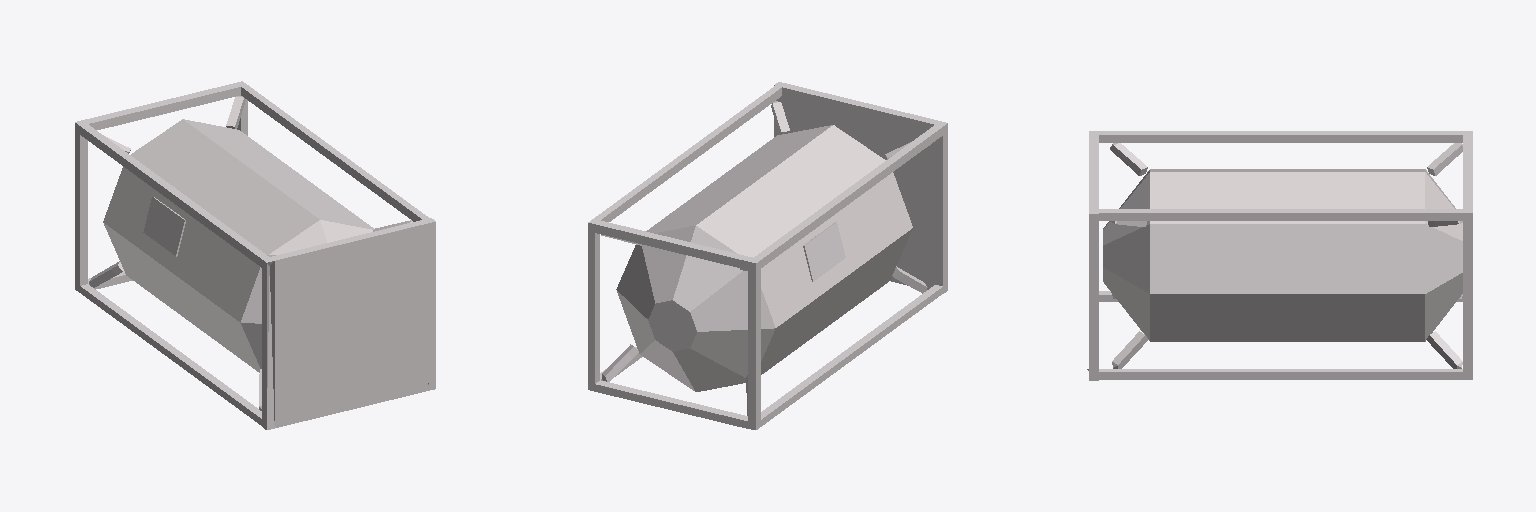
3 renders of one model, left to right at view 1: azimuth 30°, elevation 25°; view 2: azimuth 150°, elevation 25°; view 3: azimuth 270°, elevation 25°, orthographic.
Visible parts, largest first — view 1: gas_tank:name10; view 2: gas_tank:name10; view 3: gas_tank:name10.
Part boxes in pixels (bbox=[...]): gas_tank:name10: bbox=[75, 81, 435, 429]; gas_tank:name10: bbox=[588, 82, 947, 429]; gas_tank:name10: bbox=[1087, 131, 1472, 380].
Bounding box in the file's own units: 1.54 × 1.46 × 3.04.
Materials: 1 (1 with a texture image).